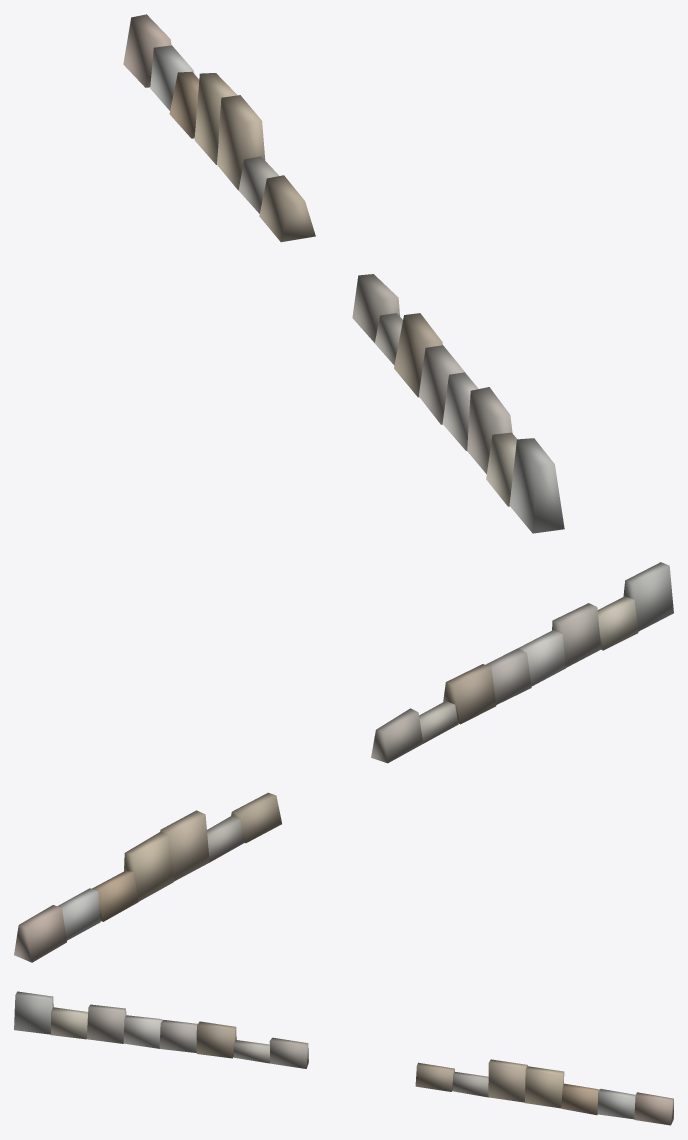
File: farm_26_40_far.glb
3 renders of one model, top to bottom at view 1: azimuth 30°, elevation 25°; view 2: azimuth 150°, elevation 25°; view 3: azimuth 270°, elevation 25°, orthographic. The views are drawn at different scales.
Parts seen in each view (by area): view 1: geometry_0; view 2: geometry_0; view 3: geometry_0.
Part boxes in pixels (x1,y1,x2,y2): geometry_0: (123,14,564,533); geometry_0: (14,562,673,962); geometry_0: (14,991,673,1125).
Bounding box in the file's own units: 6.52 × 3.11 × 27.01.
